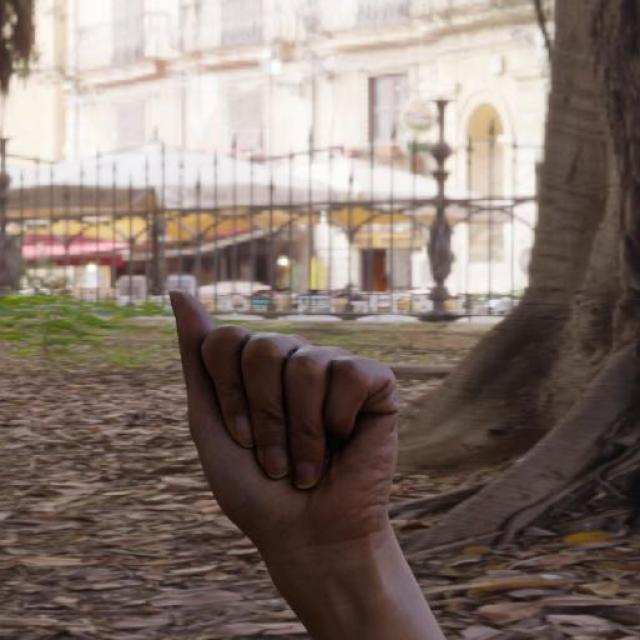A: (164, 284, 401, 555)
